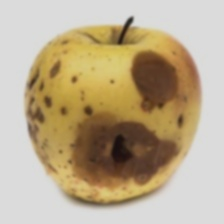apple: (61, 55, 197, 205)
